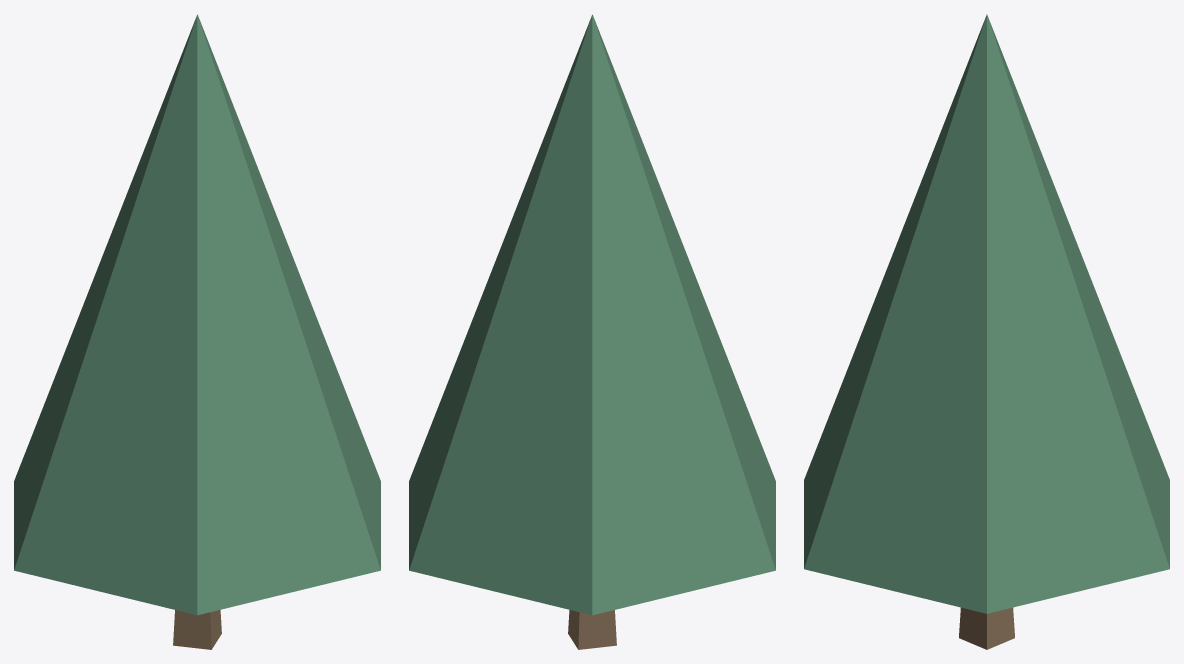
Rendered from pine_far.glb.
3 views of the same model, side by side, from view 1: azimuth 30°, elevation 25°; view 2: azimuth 150°, elevation 25°; view 3: azimuth 270°, elevation 25° (orthographic).
Visible parts, largest first — view 1: pine_far; view 2: pine_far; view 3: pine_far.
Part boxes in pixels (left/top/right/bottom): pine_far: left=14, top=14, right=380, bottom=649; pine_far: left=409, top=14, right=775, bottom=649; pine_far: left=804, top=14, right=1169, bottom=649.
Bounding box in the file's own units: 2.7 × 4.4 × 2.34.
